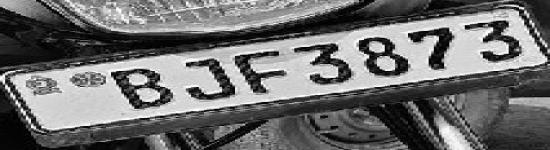3: (455, 19, 524, 63), (292, 41, 355, 88)
7: (408, 25, 459, 73)
8: (356, 36, 412, 80)
B: (100, 64, 179, 112)
F: (234, 47, 292, 97)
J: (176, 56, 242, 102)
